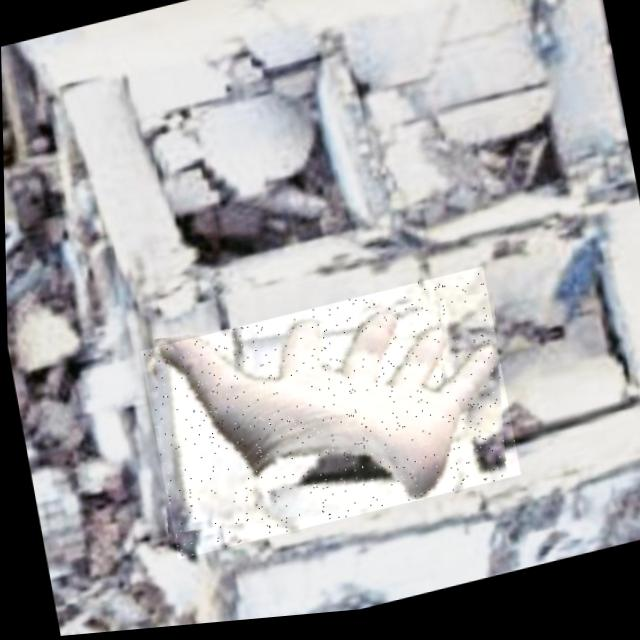Person in Rubble: (138, 273, 520, 565)
